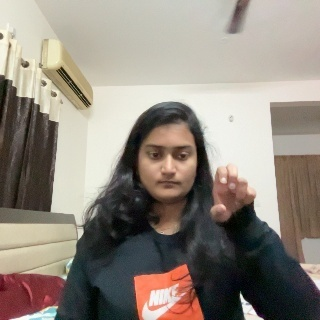Face: (138, 114, 199, 206)
No: (208, 161, 264, 253)
